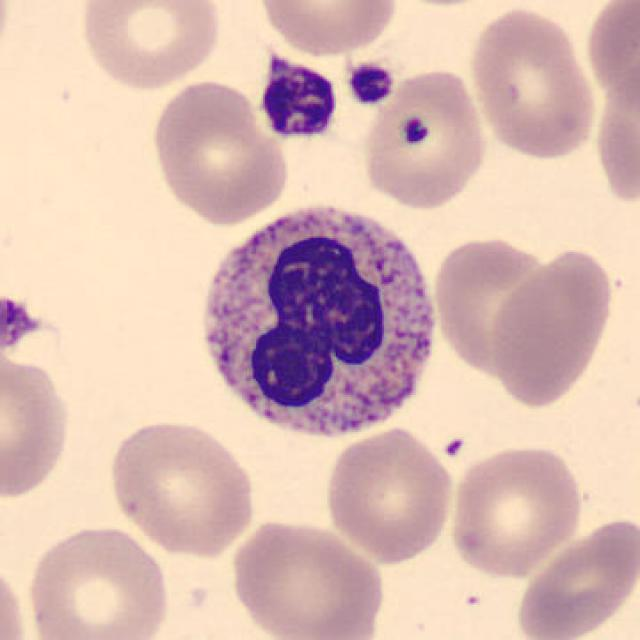Monocyte: (186, 194, 450, 453)
Platelets: (255, 51, 342, 143), (388, 88, 453, 180), (345, 60, 396, 107), (0, 293, 39, 351), (398, 111, 434, 150), (441, 434, 467, 460)
RBC: (103, 414, 258, 559), (485, 243, 619, 409), (146, 76, 292, 226), (466, 3, 601, 164), (225, 516, 387, 640), (359, 64, 491, 212), (444, 441, 586, 578), (320, 425, 457, 564), (428, 231, 556, 377), (22, 520, 175, 640), (512, 513, 638, 638), (74, 0, 226, 92), (0, 349, 76, 504), (252, 0, 400, 58), (590, 46, 638, 213), (582, 0, 638, 118), (0, 553, 30, 640), (384, 0, 503, 11), (0, 2, 16, 79)
